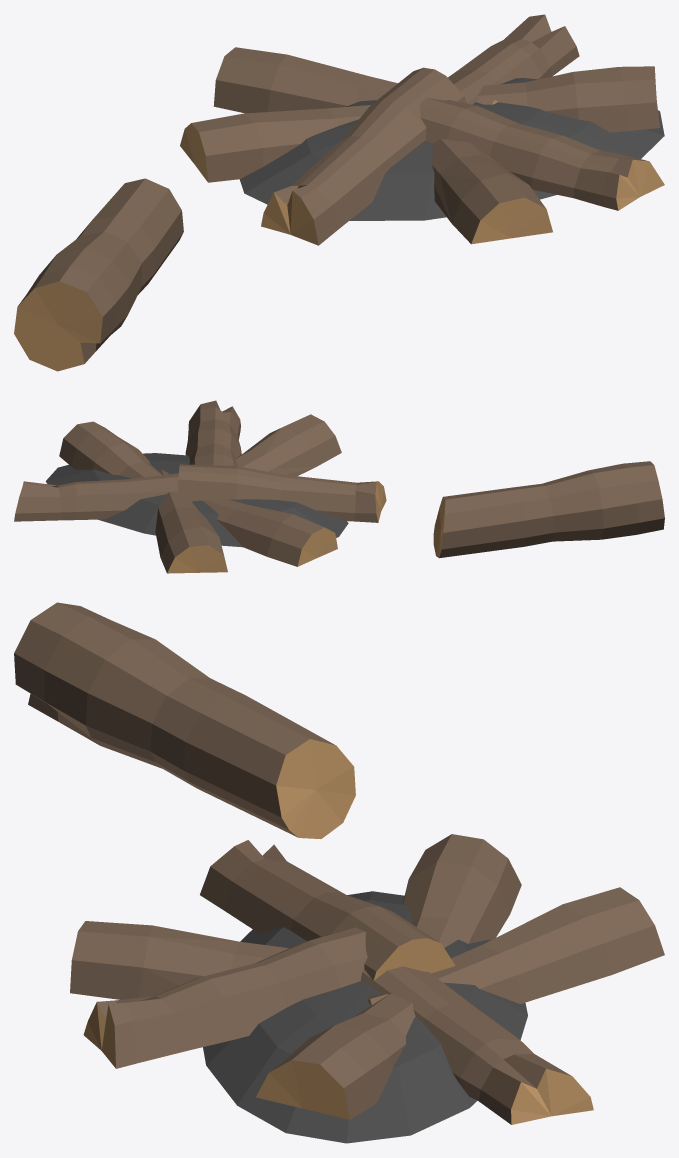
The model's file is Coals1.fbx.
3 renders of one model, top to bottom at view 1: azimuth 30°, elevation 25°; view 2: azimuth 150°, elevation 25°; view 3: azimuth 270°, elevation 25°, orthographic. The views are drawn at different scales.
Parts seen in each view (by area): view 1: Coals1; view 2: Coals1; view 3: Coals1.
Boxes of the visible parts, x1,y1,x2,y2 form: Coals1: (14,14,664,371); Coals1: (14,400,664,573); Coals1: (14,602,664,1143).
Size of the model in its own units: 192 by 118 by 23.72.
